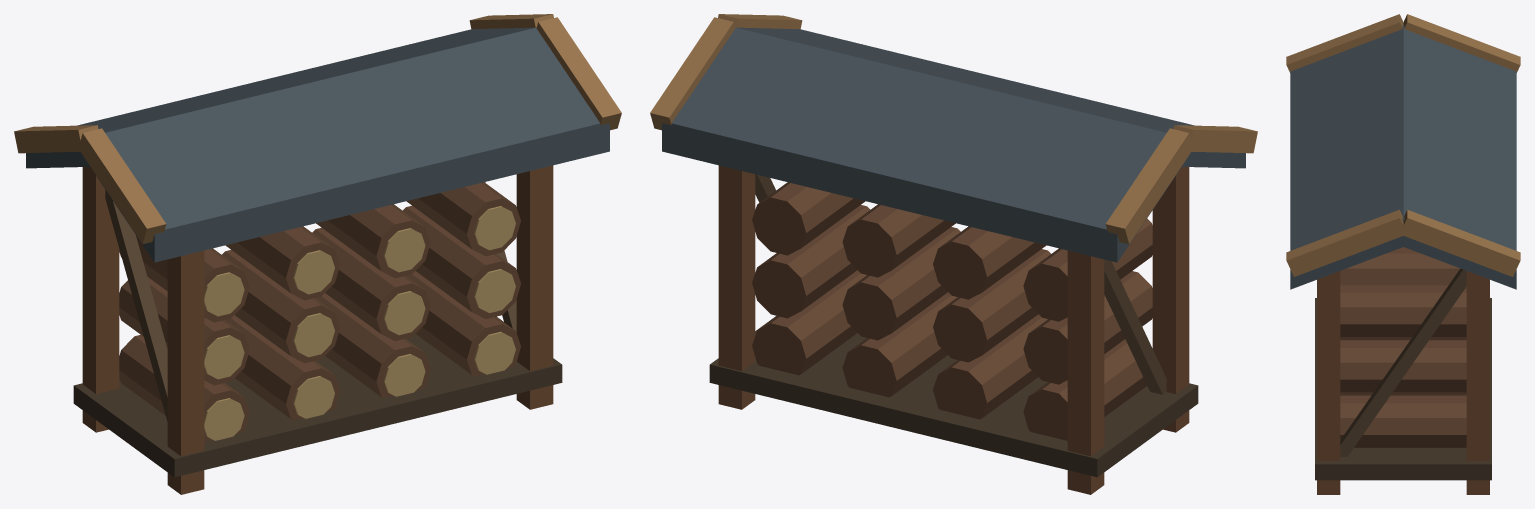
The model's file is Prop_Daily_FirewoodRack_001.glb.
3 views of the same model, side by side, from view 1: azimuth 30°, elevation 25°; view 2: azimuth 150°, elevation 25°; view 3: azimuth 270°, elevation 25° (orthographic). The views are drawn at different scales.
Parts seen in each view (by area): view 1: Prop_Daily_FirewoodRack_001; view 2: Prop_Daily_FirewoodRack_001; view 3: Prop_Daily_FirewoodRack_001.
Part boxes in pixels (x1,y1,x2,y2): Prop_Daily_FirewoodRack_001: (14, 14, 621, 494); Prop_Daily_FirewoodRack_001: (650, 14, 1257, 494); Prop_Daily_FirewoodRack_001: (1286, 14, 1520, 494).
Bounding box in the file's own units: 2.45 × 1.68 × 1.19.
